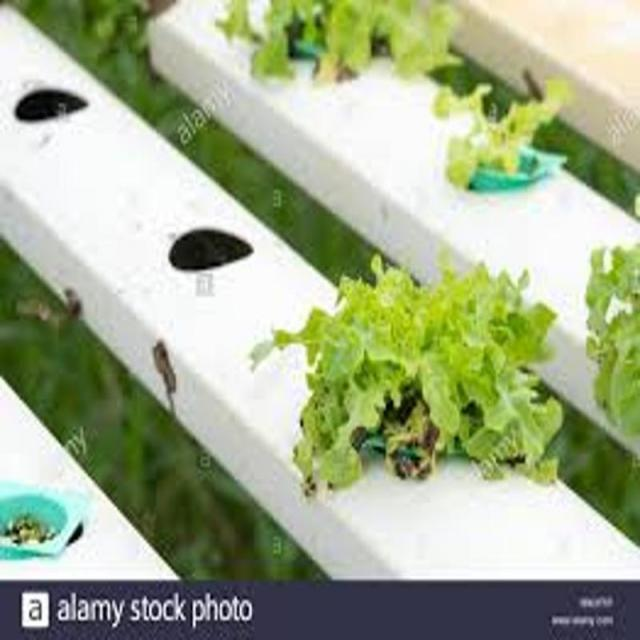Lettuce: (275, 253, 563, 485), (214, 0, 468, 85), (433, 75, 572, 193), (585, 233, 640, 452)
